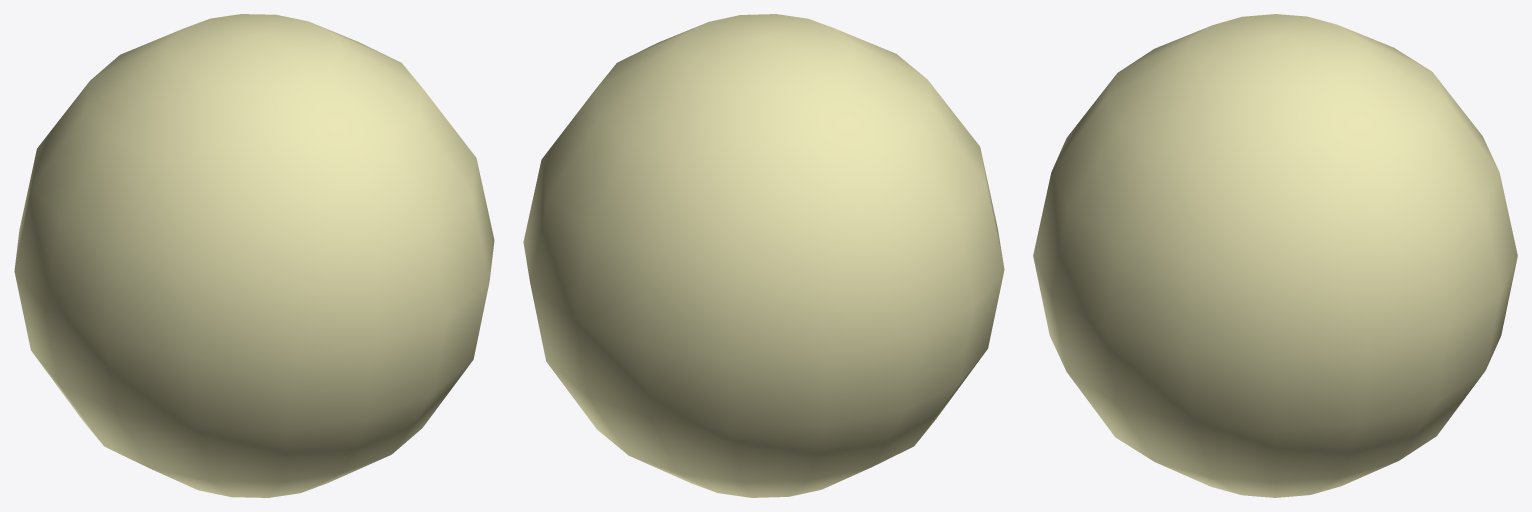
File: AnonymousAnamonkaNODE.gltf
3 views of the same model, side by side, from view 1: azimuth 30°, elevation 25°; view 2: azimuth 150°, elevation 25°; view 3: azimuth 270°, elevation 25° (orthographic).
Parts seen in each view (by area): view 1: AnonymousAnamankaNODE; view 2: AnonymousAnamankaNODE; view 3: AnonymousAnamankaNODE.
Boxes of the visible parts, x1=… form: AnonymousAnamankaNODE: x1=14, y1=14, x2=494, y2=497; AnonymousAnamankaNODE: x1=523, y1=14, x2=1004, y2=497; AnonymousAnamankaNODE: x1=1033, y1=14, x2=1517, y2=497.
Size of the model in its own units: 0.5144 by 0.5144 by 0.5144.
